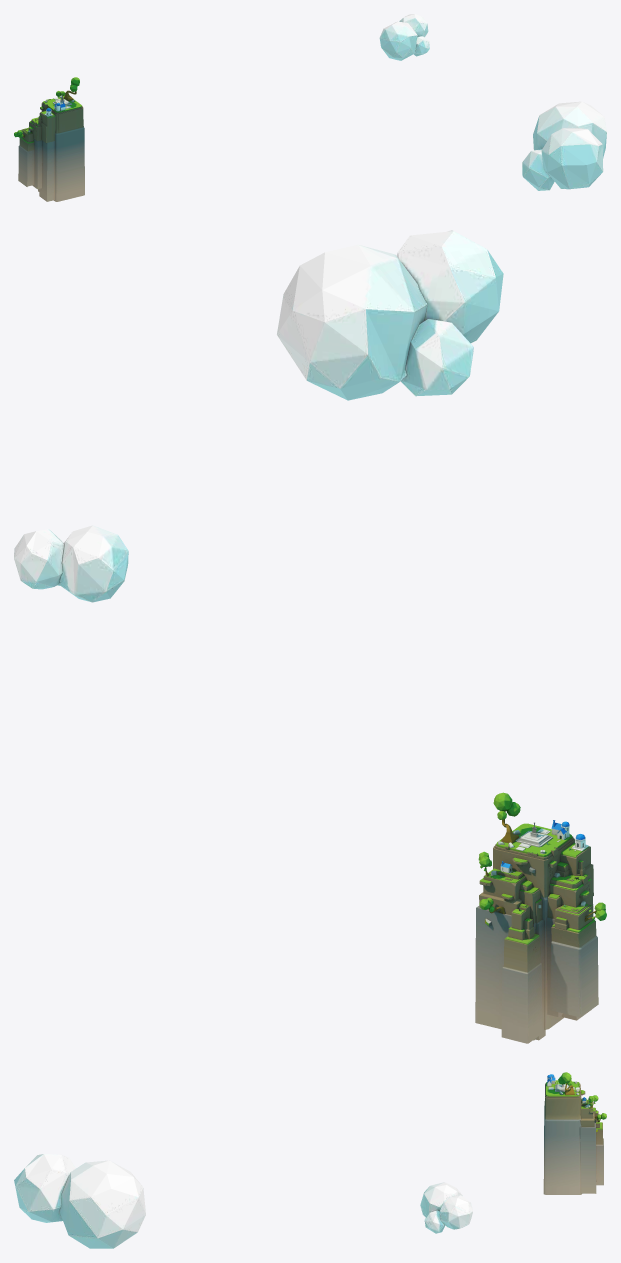
3 views of the same model, one above another, from view 1: azimuth 30°, elevation 25°; view 2: azimuth 150°, elevation 25°; view 3: azimuth 270°, elevation 25° (orthographic). The views are drawn at different scales.
Visible parts, largest first — view 1: SM_Clouds_2_0, SM_Mounain_Cloud_0; view 2: SM_Clouds_2_0, SM_Mounain_Cloud_0; view 3: SM_Clouds_2_0, SM_Mounain_Cloud_0.
Part boxes in pixels (box(x1,y1,x2,y2)): SM_Clouds_2_0: box(379, 14, 606, 190); SM_Mounain_Cloud_0: box(14, 77, 84, 201); SM_Clouds_2_0: box(14, 230, 503, 602); SM_Mounain_Cloud_0: box(475, 792, 606, 1043); SM_Clouds_2_0: box(14, 1154, 472, 1248); SM_Mounain_Cloud_0: box(543, 1072, 606, 1194).
Bounding box in the file's own units: 660 × 284 × 808.
3 materials, 3 textured.
